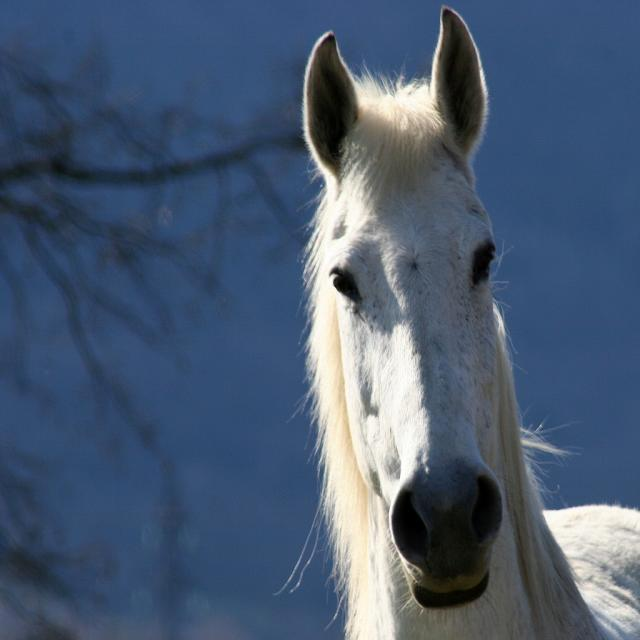Horse: (304, 10, 640, 640)
